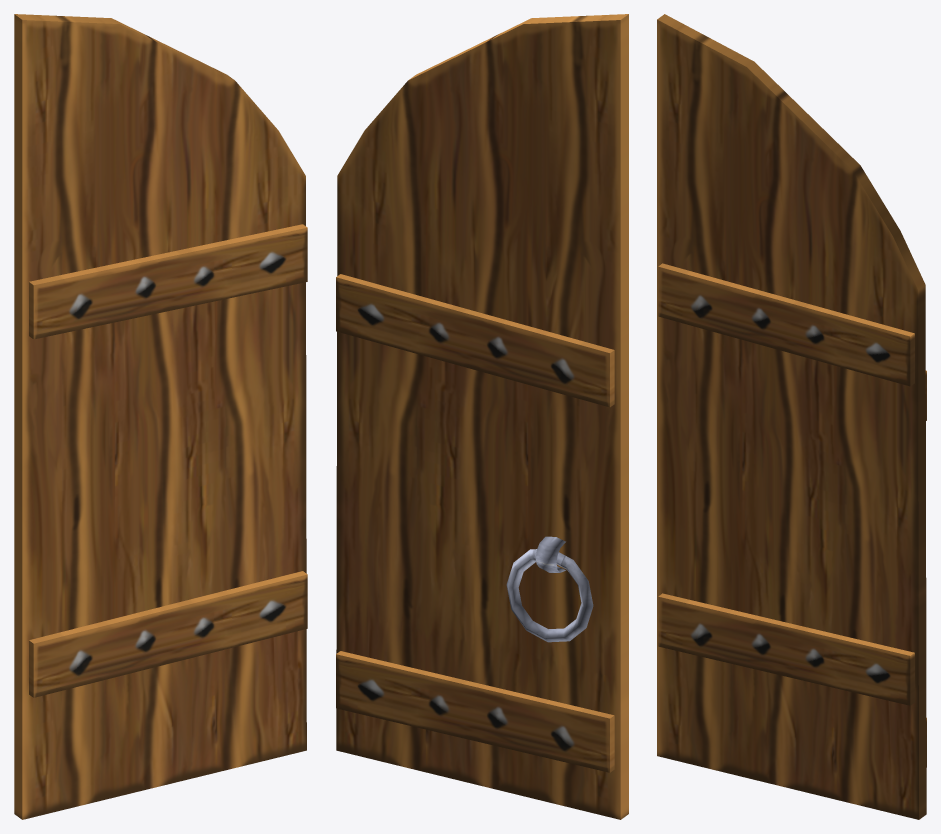
The model's file is Door_01.FBX.
The picture shows the model from 3 angles, left to right: view 1: azimuth 30°, elevation 25°; view 2: azimuth 150°, elevation 25°; view 3: azimuth 330°, elevation 25°; orthographic projection. The views are drawn at different scales.
Visible parts, largest first — view 1: Door_01; view 2: Door_01; view 3: Door_01.
Part boxes in pixels (x1,y1,x2,y2): Door_01: (14, 14, 307, 819); Door_01: (336, 14, 628, 819); Door_01: (657, 14, 926, 819).
Bounding box in the file's own units: 65.51 × 176 × 9.8.
